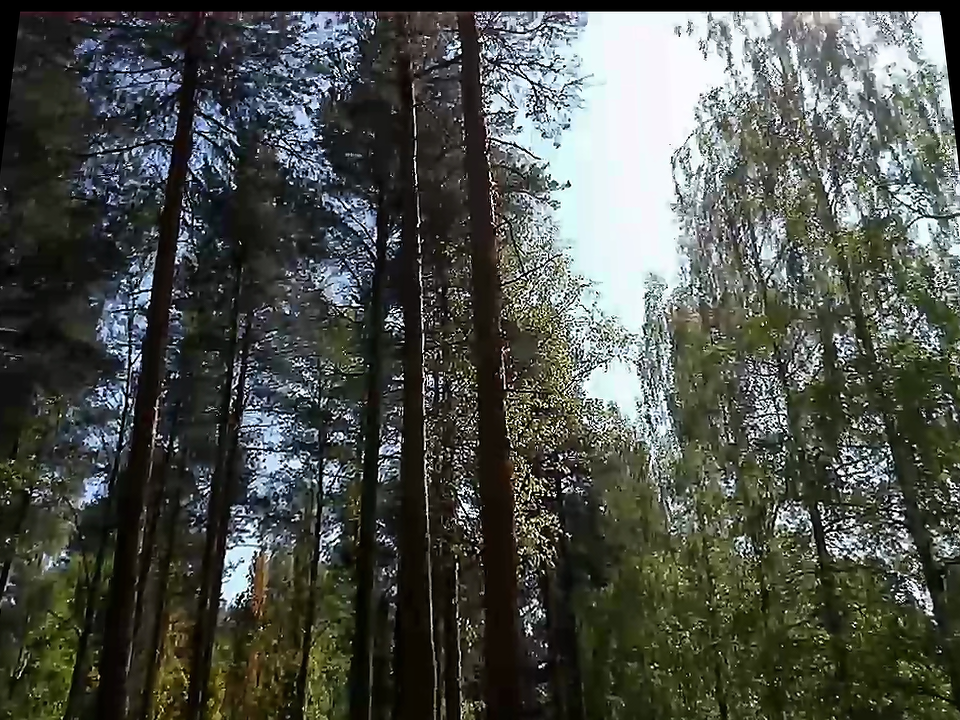branch: (501, 248, 563, 291), (490, 133, 542, 161), (491, 160, 528, 182)
trunk: (384, 53, 445, 716), (466, 452, 545, 713), (463, 229, 521, 478), (454, 94, 508, 288), (452, 11, 489, 118)
